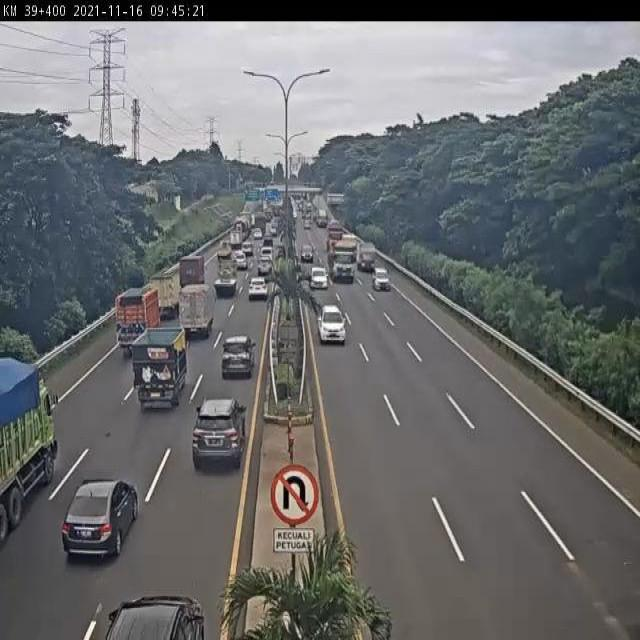car: (63, 480, 138, 555), (193, 396, 246, 468), (221, 337, 255, 379), (316, 304, 347, 345), (249, 276, 270, 299), (232, 249, 249, 271), (373, 267, 390, 289), (310, 266, 328, 286), (258, 257, 273, 276)
small truck: (178, 282, 210, 342), (147, 271, 180, 316), (216, 238, 233, 262)
truck-l-: (327, 236, 356, 281)
truck-m-: (132, 328, 188, 405), (114, 290, 158, 354), (178, 253, 205, 303), (213, 262, 238, 298)
